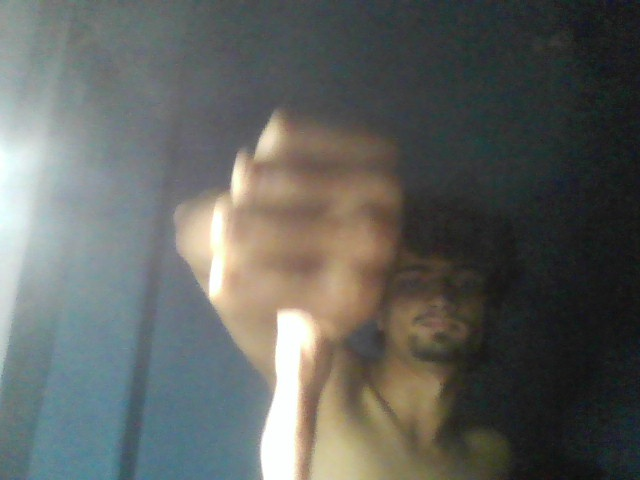ThumbsDown: (206, 99, 410, 480)
